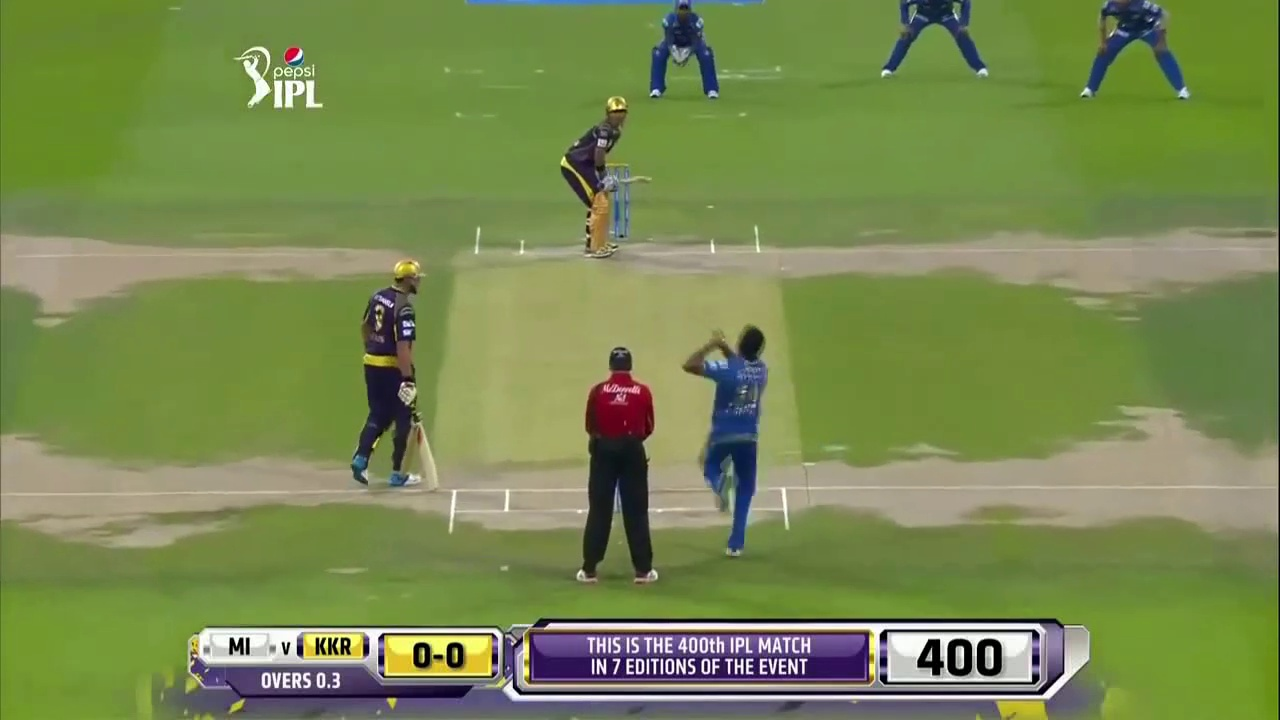bat: (411, 425, 443, 493)
